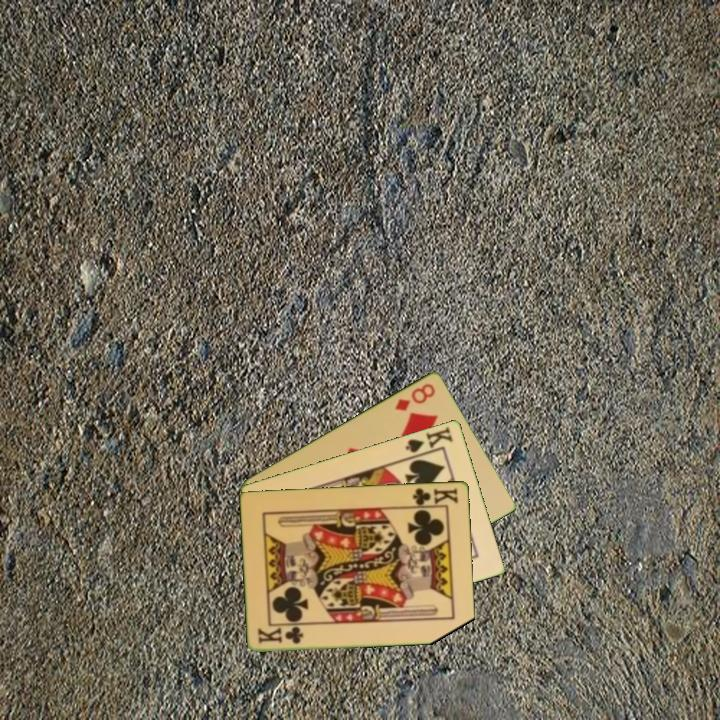8d: (391, 379, 438, 414)
Kc: (407, 484, 461, 509), (255, 624, 306, 647)
Ks: (402, 423, 456, 455)
